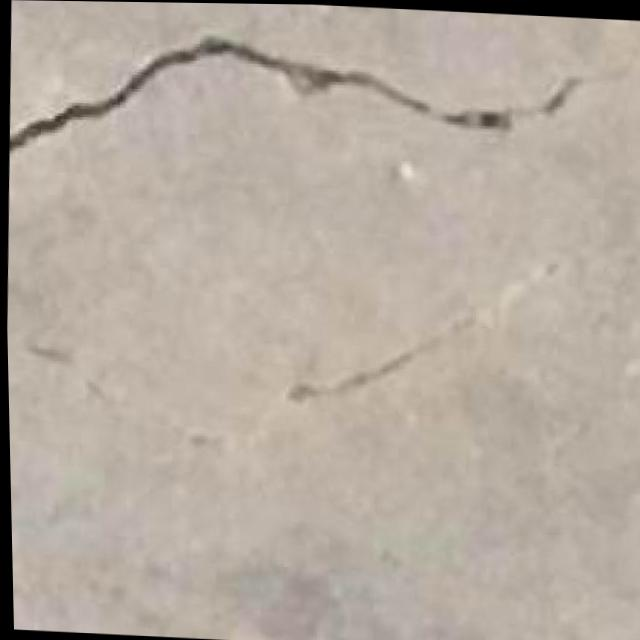Crack: (5, 16, 592, 192), (265, 294, 471, 423)
